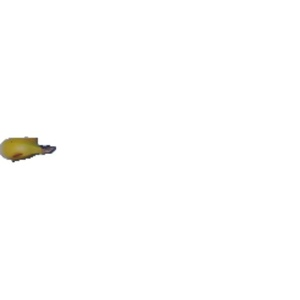banana: (1, 126, 58, 169)
